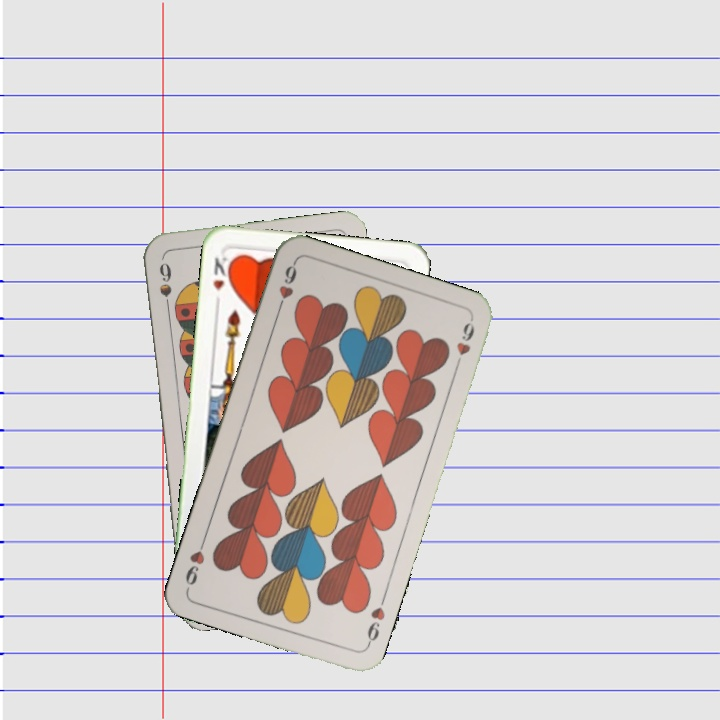H9: (273, 258, 300, 316), (362, 603, 388, 650)
HK: (209, 251, 235, 309)
S9: (155, 258, 175, 316)
